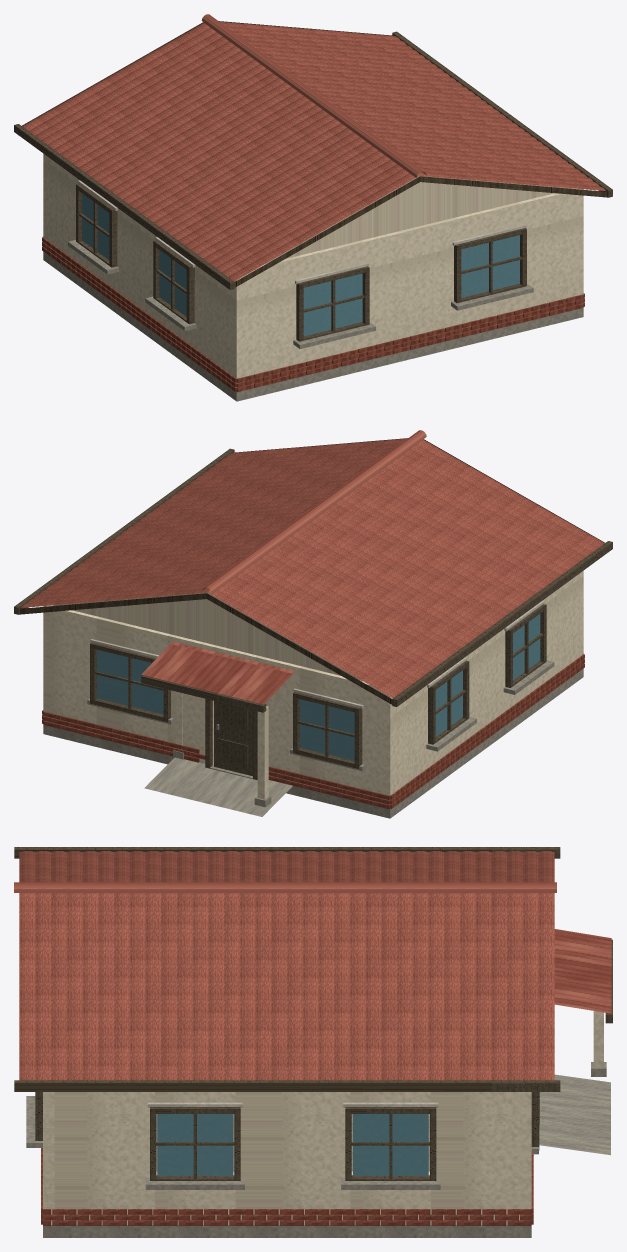
File: H01_REV04.gltf
The picture shows the model from 3 angles, top to bottom: view 1: azimuth 30°, elevation 25°; view 2: azimuth 150°, elevation 25°; view 3: azimuth 270°, elevation 25°; orthographic projection. The views are drawn at different scales.
Parts seen in each view (by area): view 1: H01_TELHAS, H01_REBOCO_FUNDOS, H01_ESQUADRIAS (×3), H01_REBOCO_LATERAIS, H01_EMBASAMENTO, H01_VIDRO, H01_OITOES, H01_FUNDACAO, H01_BEIRAIS, H01_TESTEIRAS, H01_CUMEEIRA; view 2: H01_TELHAS, H01_REBOCO_FRENTE, H01_REBOCO_LATERAIS, H01_ESQUADRIAS (×3), H01_VIDRO, H01_EMBASAMENTO, H01_OITOES, H01_VARANDA_TELHAS, H01_VARANDA_RAMPA, H01_BEIRAIS, H01_FUNDACAO, H01_TESTEIRAS (+6 smaller); view 3: H01_TELHAS, H01_REBOCO_LATERAIS, H01_ESQUADRIAS (×3), H01_BEIRAIS, H01_VIDRO, H01_EMBASAMENTO, H01_FUNDACAO, H01_CUMEEIRA, H01_VARANDA_RAMPA, H01_VARANDA_TELHAS, H01_REBOCO_FUNDOS, H01_REBOCO_FRENTE (+1 smaller).
Boxes of the visible parts, bbox=[...] form: H01_TELHAS: bbox=[22, 21, 605, 281]; H01_REBOCO_FUNDOS: bbox=[232, 189, 583, 383]; H01_ESQUADRIAS (×3): bbox=[68, 180, 533, 348]; H01_REBOCO_LATERAIS: bbox=[43, 154, 583, 387]; H01_EMBASAMENTO: bbox=[42, 237, 584, 391]; H01_VIDRO: bbox=[82, 193, 519, 336]; H01_OITOES: bbox=[266, 176, 573, 263]; H01_FUNDACAO: bbox=[43, 251, 583, 401]; H01_BEIRAIS: bbox=[14, 31, 612, 289]; H01_TESTEIRAS: bbox=[22, 21, 607, 287]; H01_CUMEEIRA: bbox=[201, 14, 426, 177]; H01_TELHAS: bbox=[21, 438, 604, 697]; H01_REBOCO_FRENTE: bbox=[43, 605, 394, 804]; H01_REBOCO_LATERAIS: bbox=[43, 571, 583, 795]; H01_ESQUADRIAS (×3): bbox=[87, 600, 554, 770]; H01_VIDRO: bbox=[97, 614, 540, 760]; H01_EMBASAMENTO: bbox=[42, 654, 584, 808]; H01_OITOES: bbox=[53, 592, 361, 680]; H01_VARANDA_TELHAS: bbox=[141, 641, 295, 704]; H01_VARANDA_RAMPA: bbox=[144, 757, 292, 816]; H01_BEIRAIS: bbox=[14, 448, 612, 706]; H01_FUNDACAO: bbox=[43, 668, 583, 818]; H01_TESTEIRAS: bbox=[19, 438, 604, 704]; H01_TELHAS: bbox=[19, 851, 554, 1080]; H01_REBOCO_LATERAIS: bbox=[43, 1092, 531, 1225]; H01_ESQUADRIAS (×3): bbox=[26, 1092, 539, 1189]; H01_BEIRAIS: bbox=[14, 847, 560, 1091]; H01_VIDRO: bbox=[157, 1114, 428, 1175]; H01_EMBASAMENTO: bbox=[41, 1148, 533, 1225]; H01_FUNDACAO: bbox=[43, 1114, 531, 1237]; H01_CUMEEIRA: bbox=[14, 882, 556, 892]; H01_VARANDA_RAMPA: bbox=[539, 1074, 610, 1155]; H01_VARANDA_TELHAS: bbox=[554, 929, 611, 1013]; H01_REBOCO_FUNDOS: bbox=[43, 1092, 54, 1224]; H01_REBOCO_FRENTE: bbox=[520, 1092, 531, 1208].
Size of the model in its own units: 9.72 by 4.76 by 10.42.
8 materials, 8 textured.
